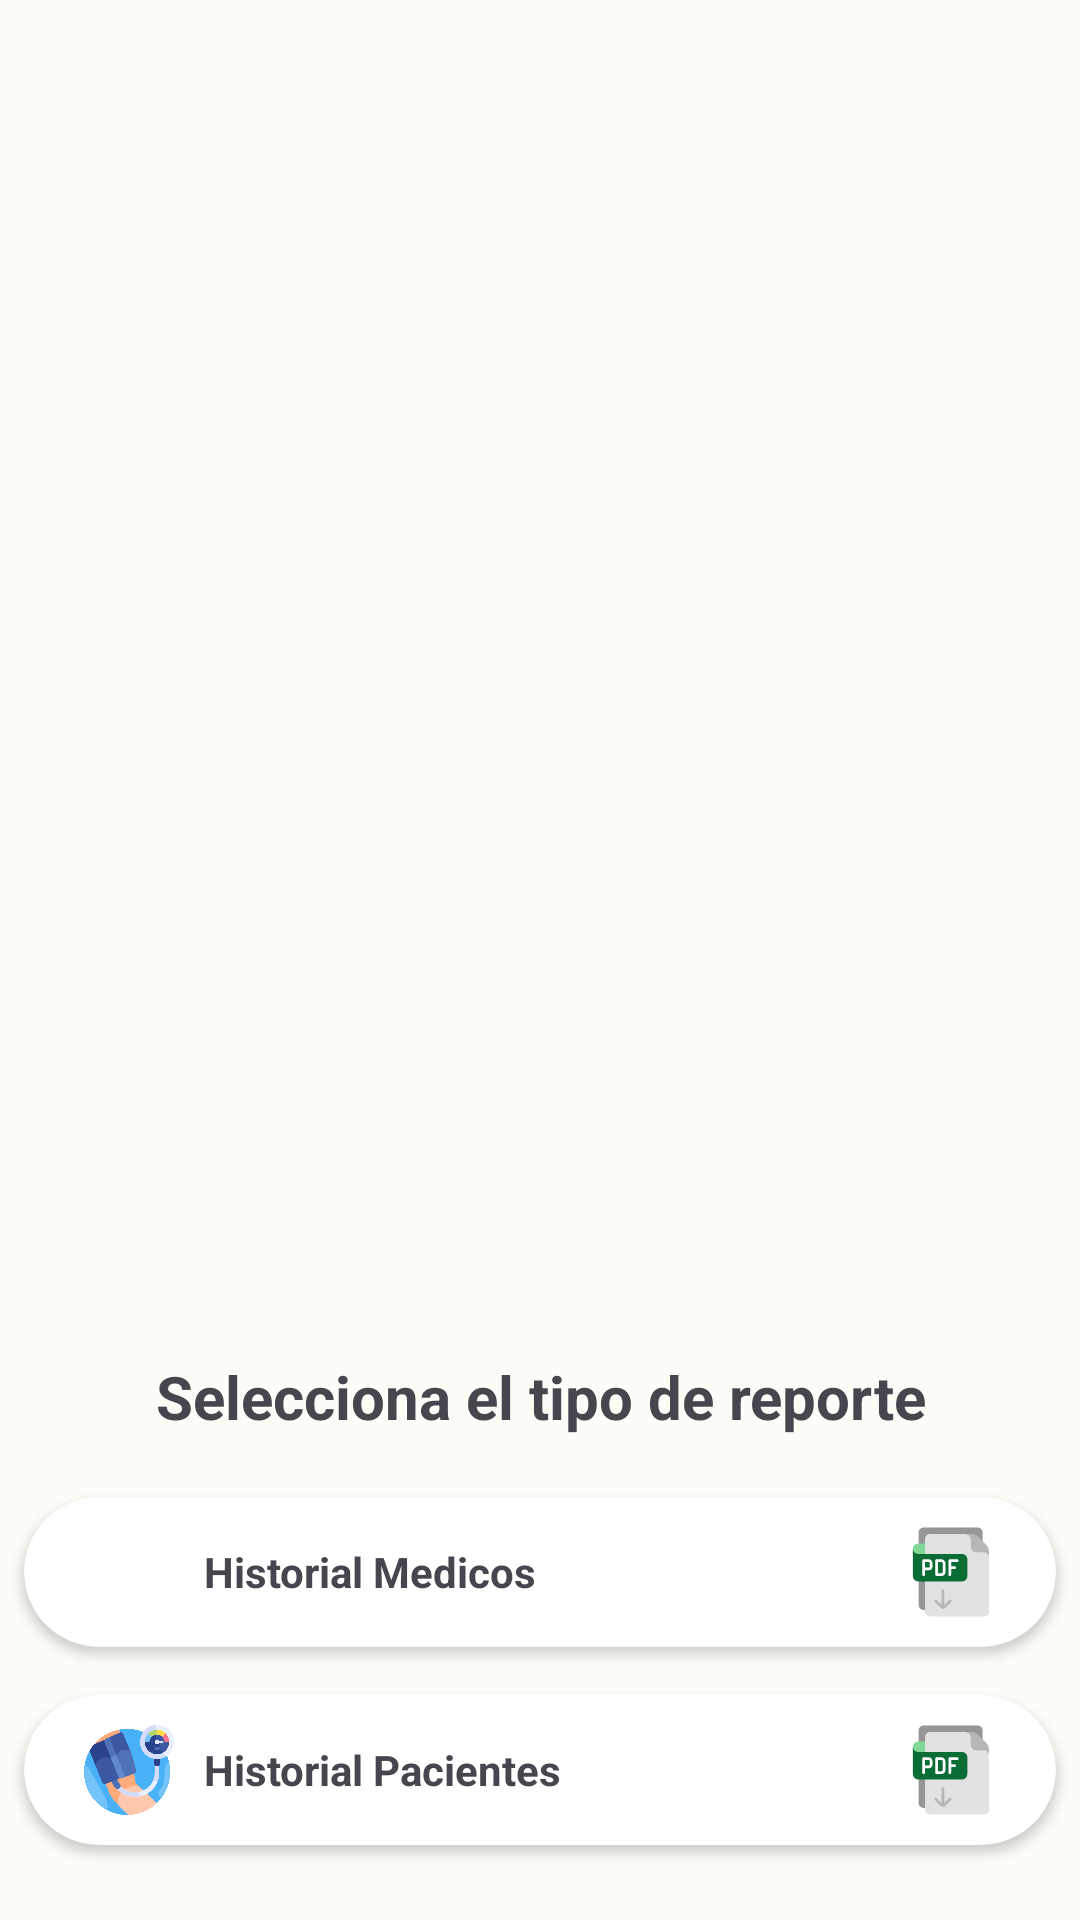

Icons on this 1080x1920 Android screen, each with the point to tap as (x,y):
pdf download: (950,1571), (950,1769)
